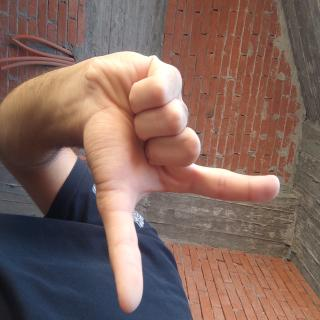LAAM: (35, 45, 236, 320)
